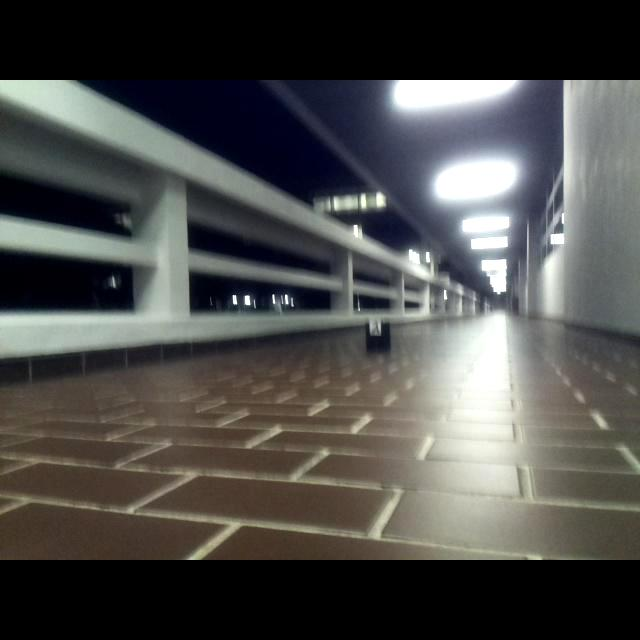A: (370, 319, 382, 337)
